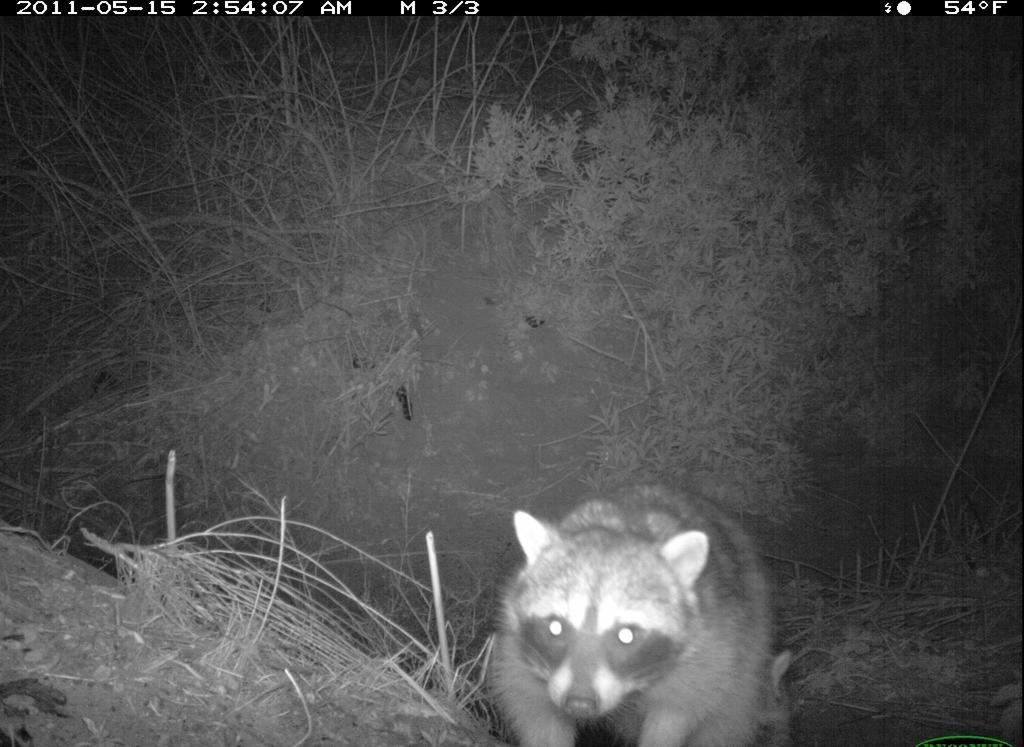raccoon: (479, 483, 803, 747)
